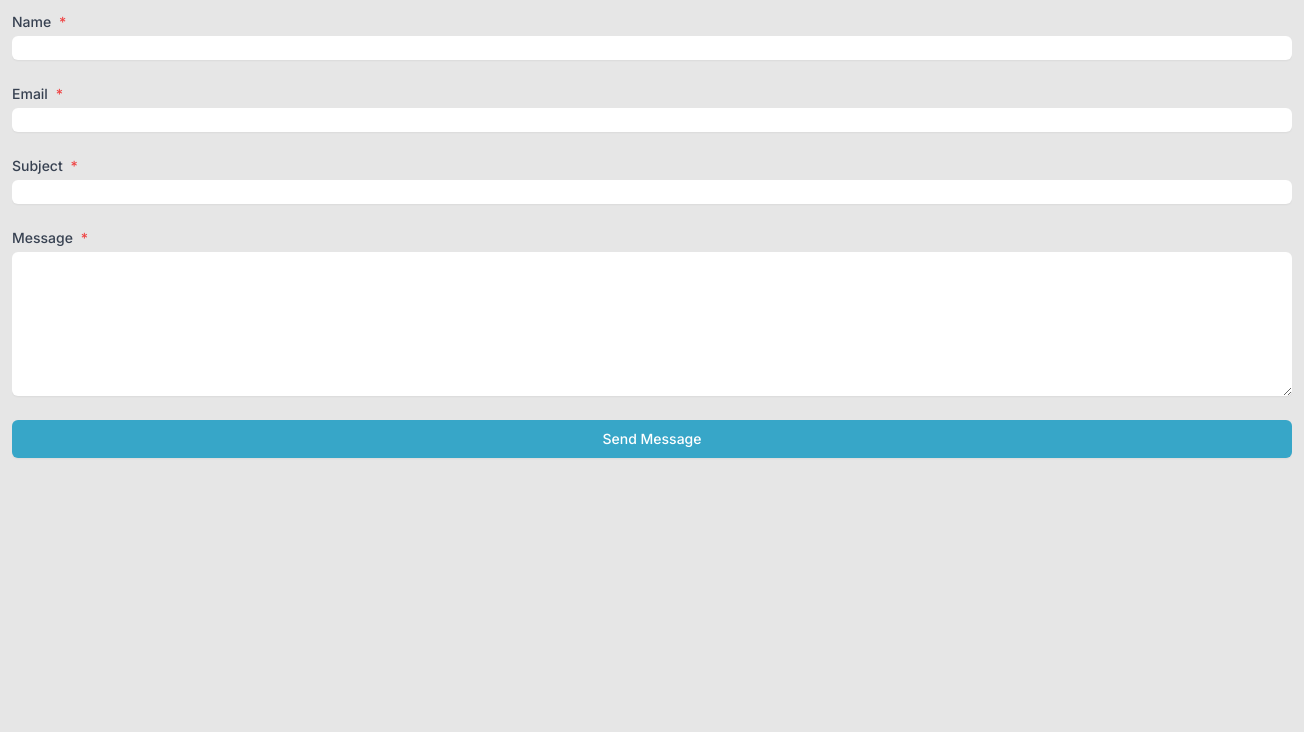
Test case: ContactForm › shows error message on API failure
The image size is (1304, 732).
Type "John Doe" into the field labelled "Name *". click: (652,48)
box: [12,36,1292,60]
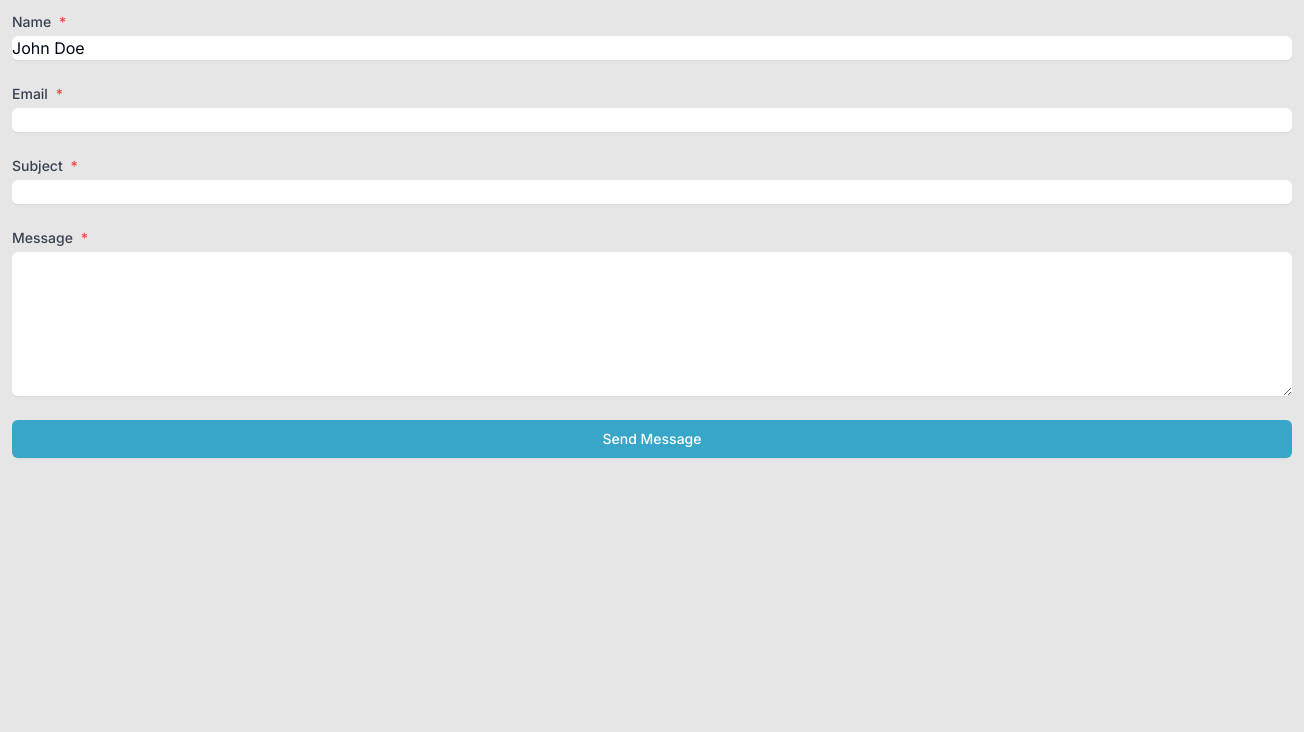
Type "john@example.com" into the field labelled "Email *". click: (652,120)
box: [12,108,1292,132]
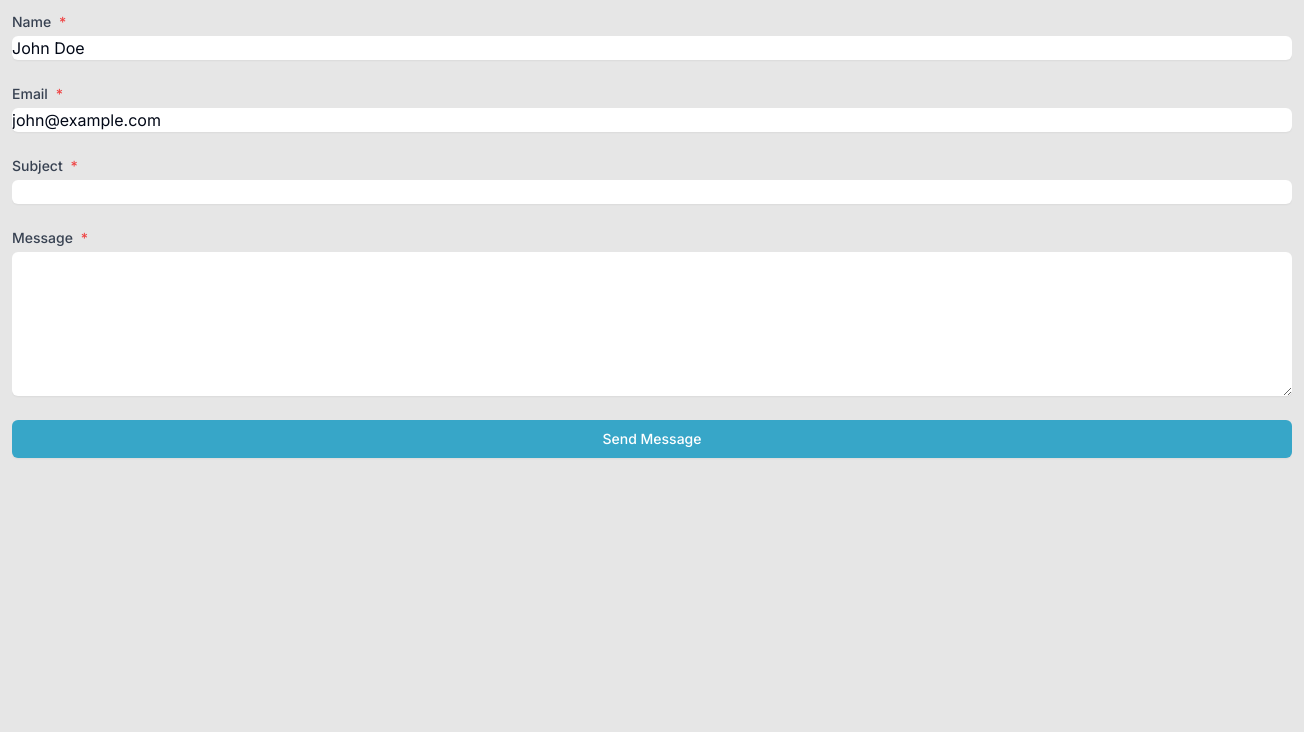
Type "Test Subject" into the field labelled "Subject *". click: (652,192)
box: [12,180,1292,204]
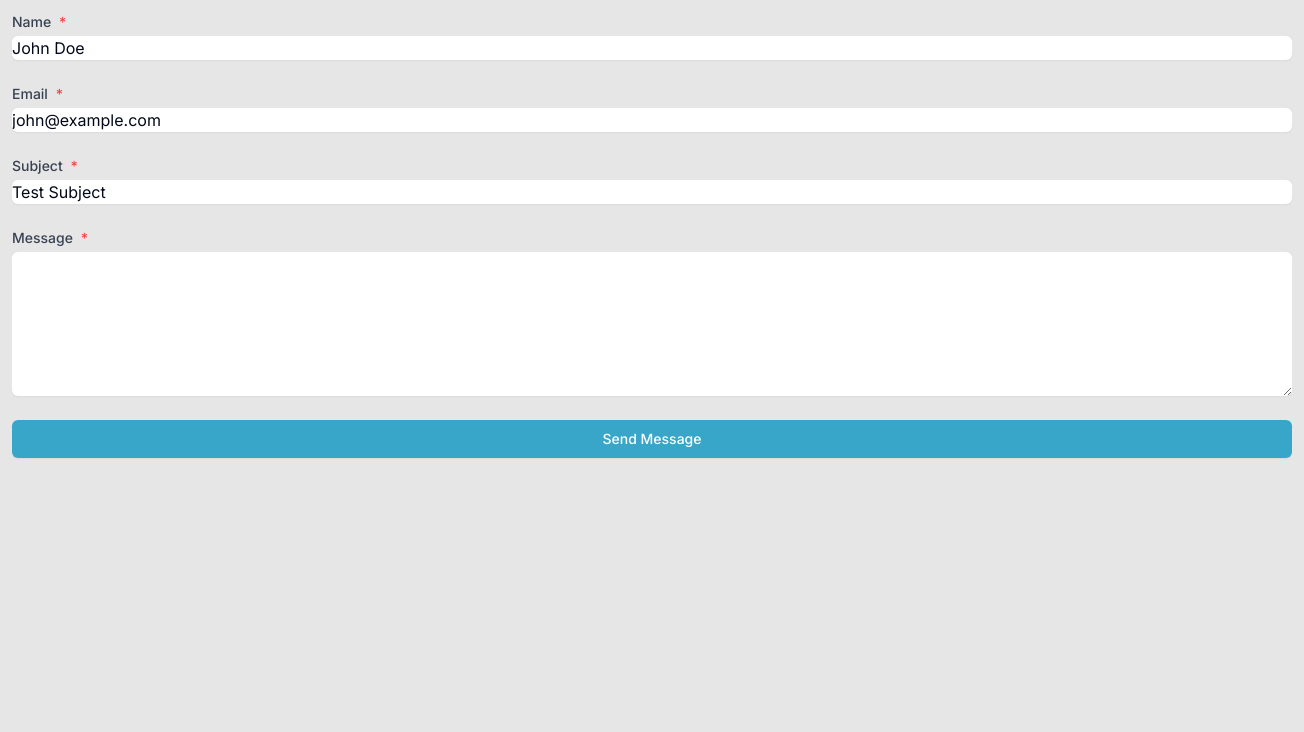
Type "Test Message" into the text box labelled "Message *". click: (652,324)
box: [12,252,1292,396]
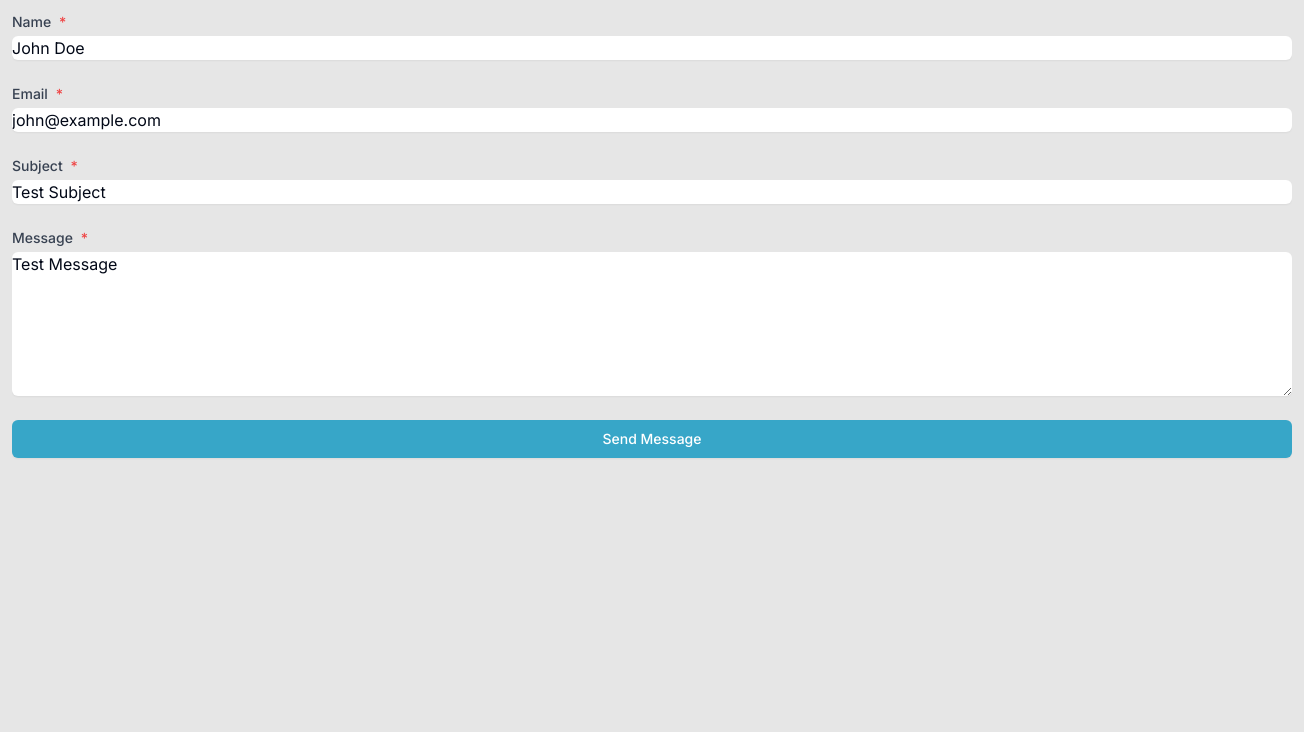
Submit the form, box [12,12,1292,458]
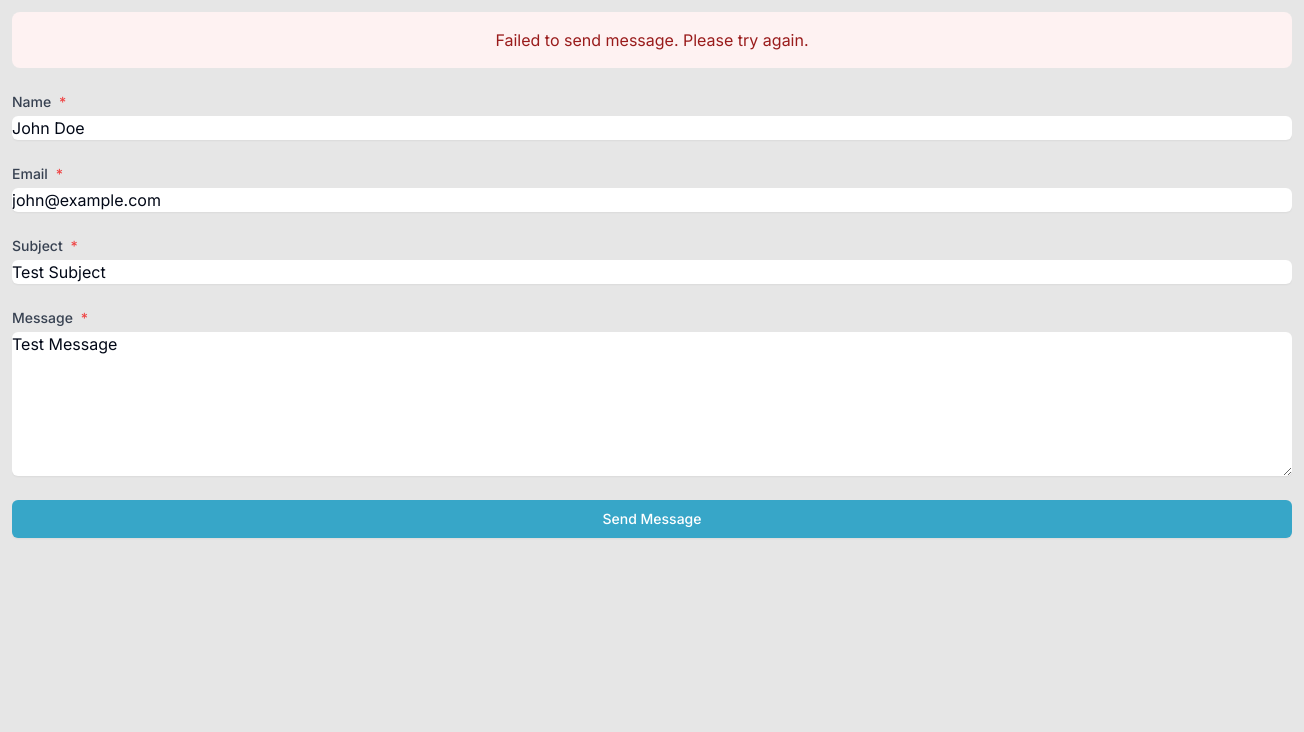
Check: the text "Failed to send message. Please try again." is shown, box [495,30,808,50]
